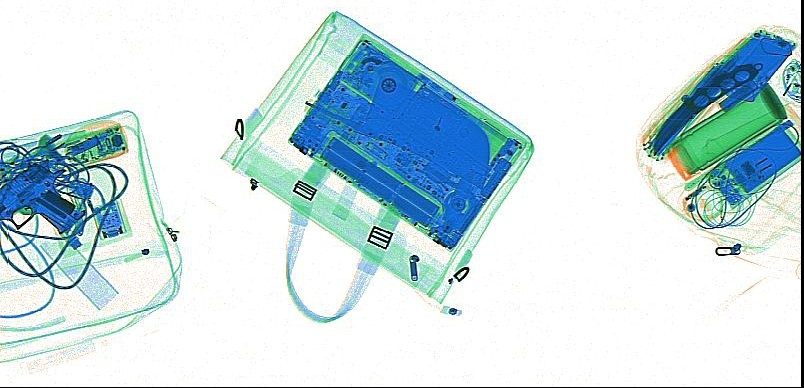knife: (303, 76, 488, 188), (652, 61, 763, 155)
zippooil: (723, 38, 792, 102)
